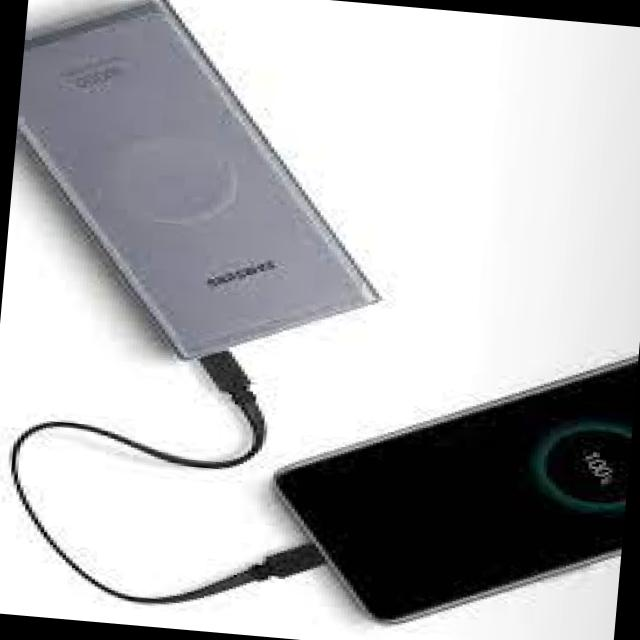power_bank: (0, 0, 403, 376)
